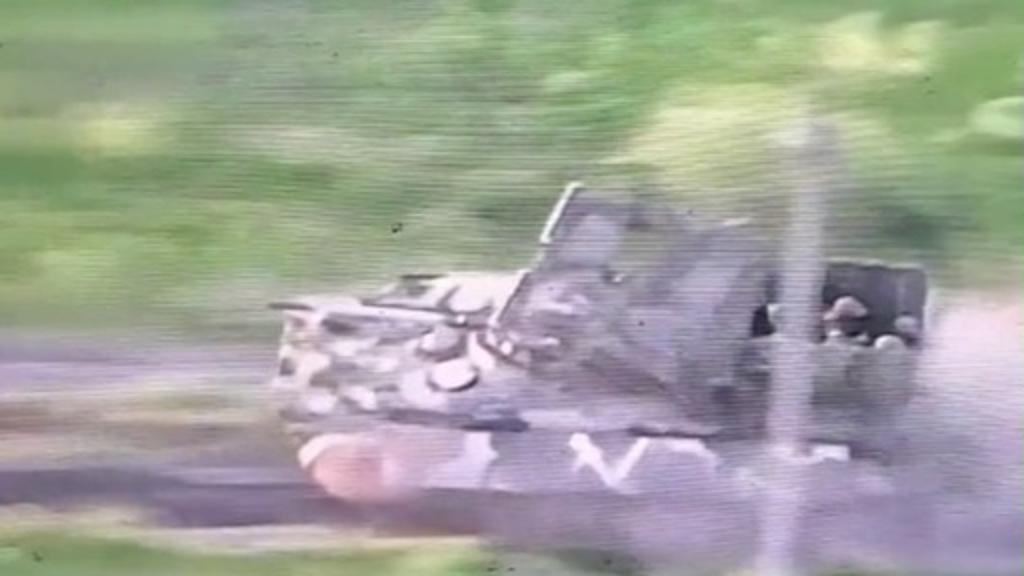APC-IFV: (246, 198, 940, 540)
